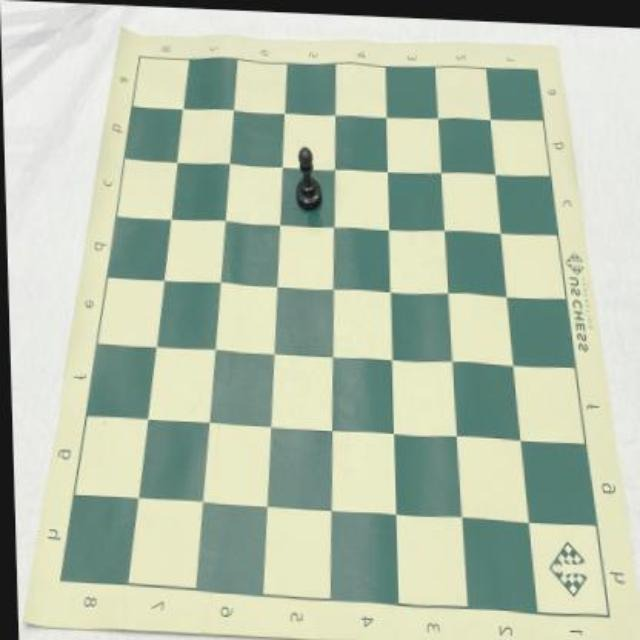black-pawn: (292, 143, 321, 209)
